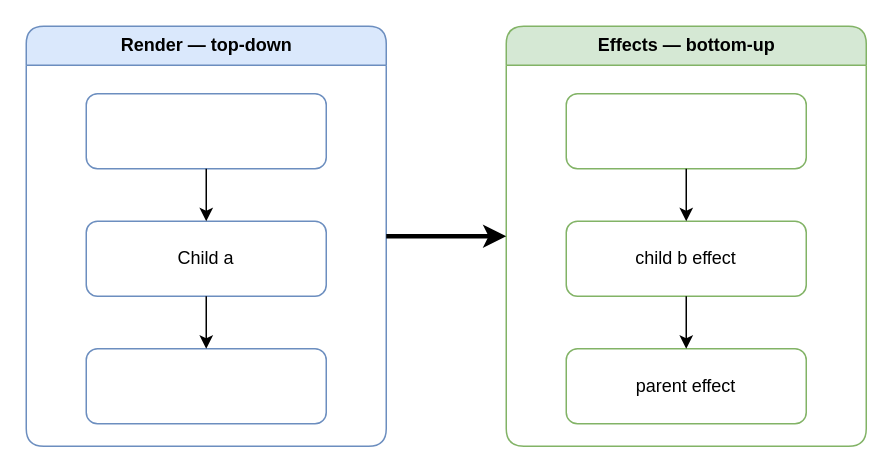
Image size: 893x473. Some labels were removed from this diagram. Each missing label, with the centre of its shape:
"child a effect" goes at point 685,130.
"Child b" goes at point 205,385.
"Parent" goes at point 205,130.
